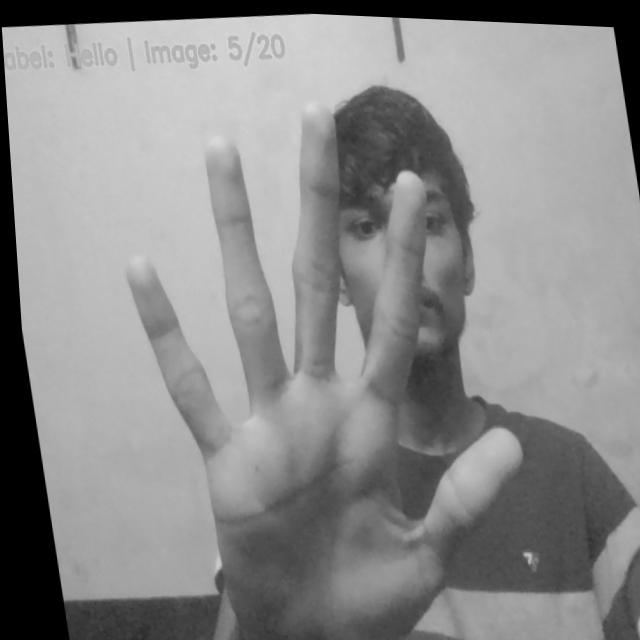Hello: (101, 73, 550, 640)
